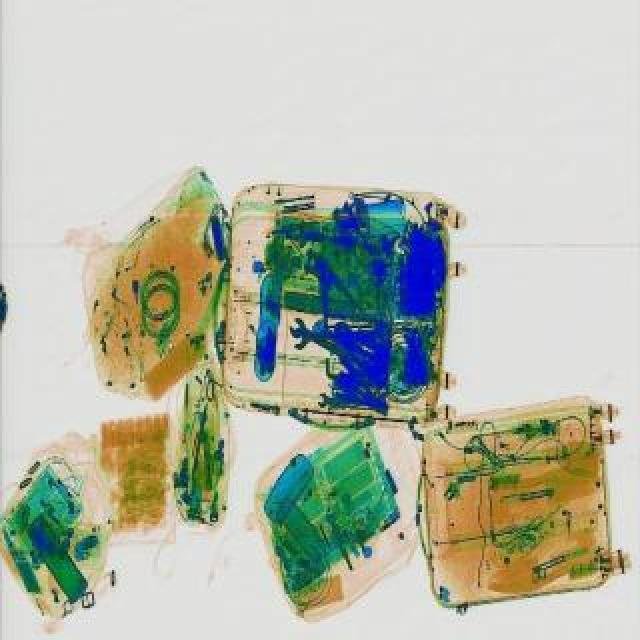scissors: (282, 314, 356, 366), (292, 322, 348, 350), (316, 392, 354, 408)
